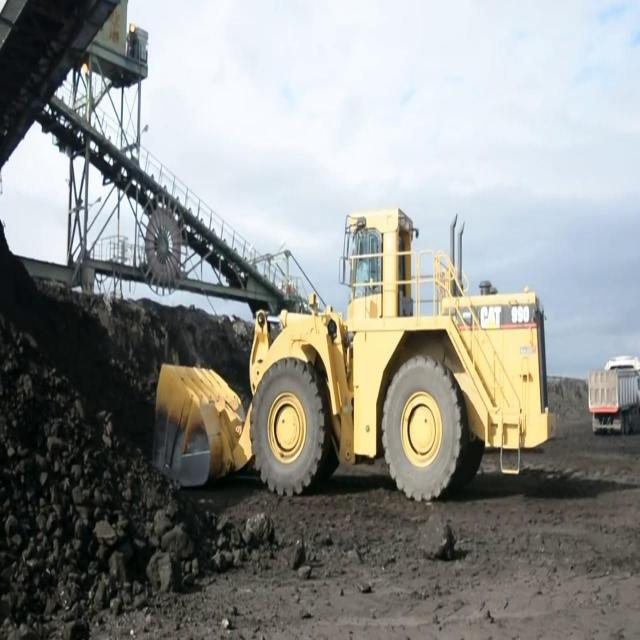Dump Truck: (586, 350, 638, 435)
Loader: (149, 199, 567, 515)
